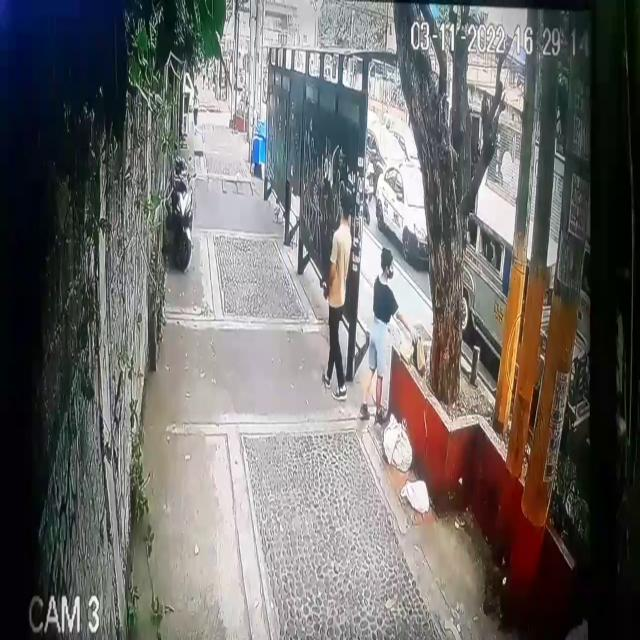human: (360, 249, 426, 423), (325, 197, 352, 394)
trash: (379, 407, 414, 473), (402, 472, 433, 515), (411, 324, 427, 374)
